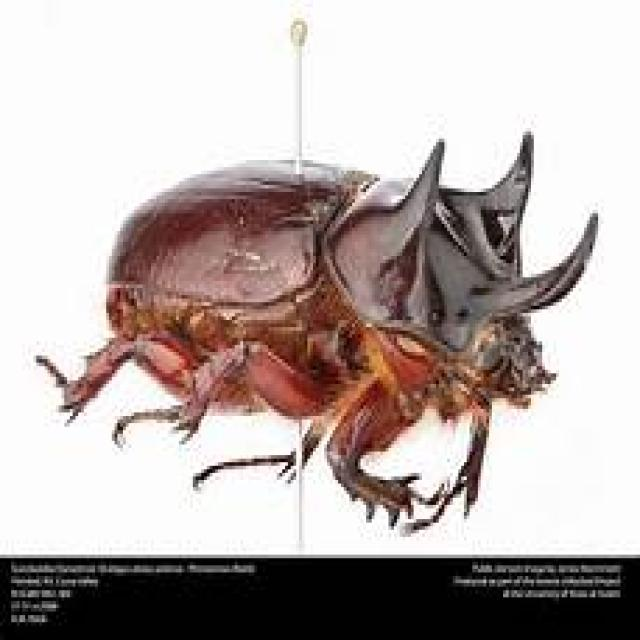Rhino-beetle: (38, 118, 627, 525)
